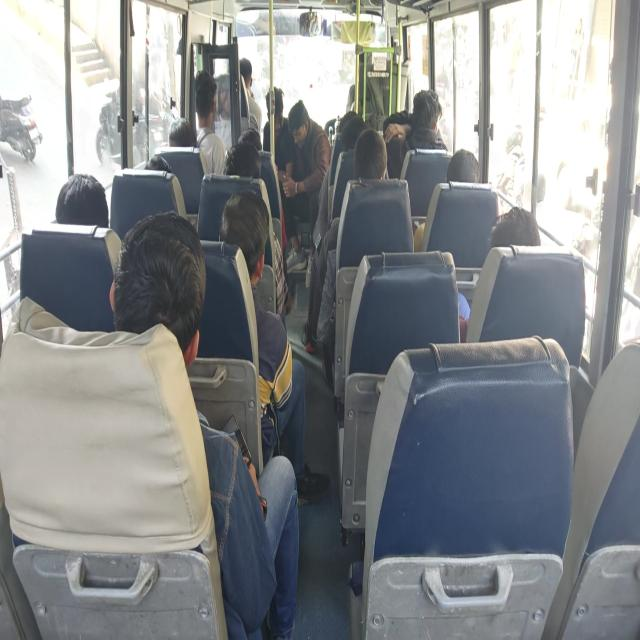person: (124, 234, 193, 344), (218, 192, 266, 272), (55, 168, 109, 226), (481, 203, 531, 257), (142, 150, 190, 204), (166, 112, 210, 159), (407, 90, 439, 140), (288, 102, 320, 146), (352, 134, 380, 184), (223, 146, 260, 180), (448, 153, 480, 192), (336, 112, 364, 153), (196, 72, 218, 117), (236, 51, 258, 88), (235, 126, 272, 148), (266, 95, 288, 128)
